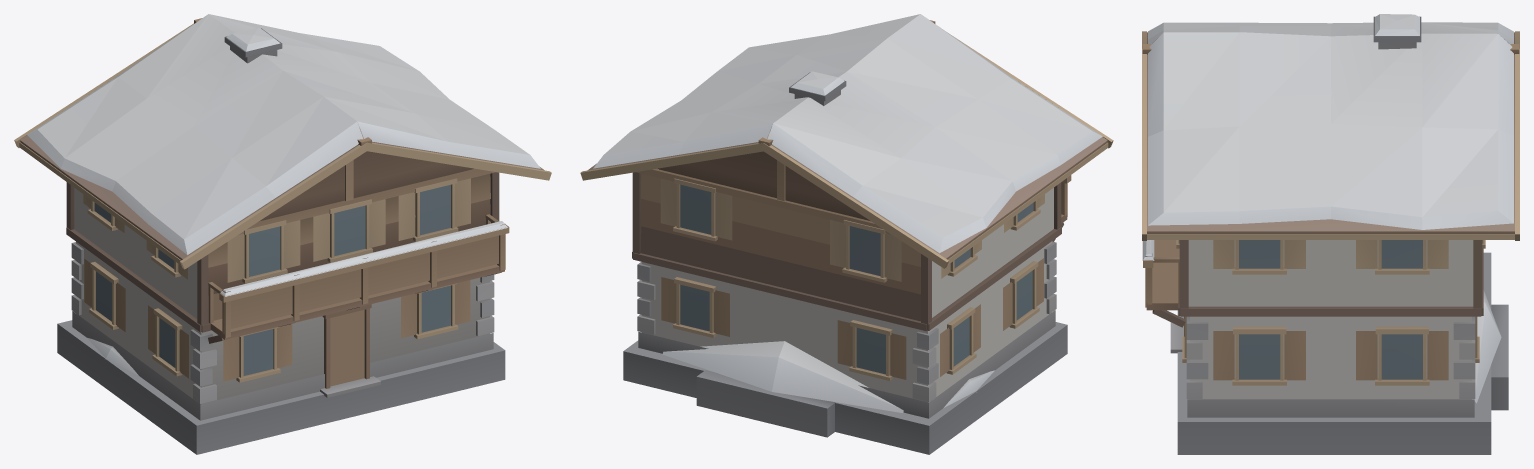
File: chalet.lod1.glb
3 renders of one model, left to right at view 1: azimuth 30°, elevation 25°; view 2: azimuth 150°, elevation 25°; view 3: azimuth 270°, elevation 25°, orthographic. The views are drawn at different scales.
Size of the model in its own units: 13.73 by 11.02 by 10.8.
